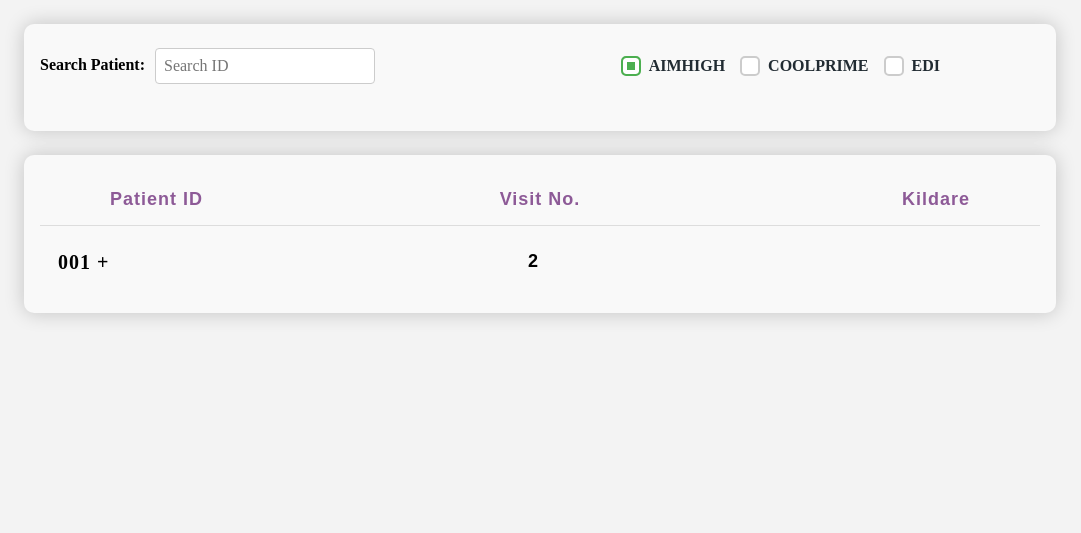
Test: Appointments Component › Booked appointment info › renders 'N/A'
Click the text "001 +" at (84,262), box [58, 251, 109, 273]
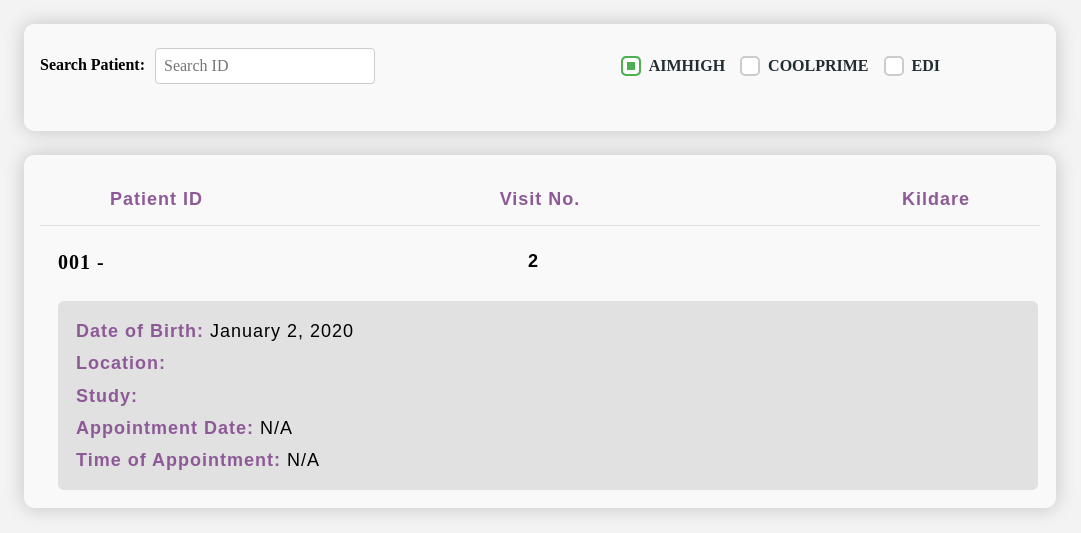
Result: the text "N/A" is shown at [260, 418, 293, 438]
